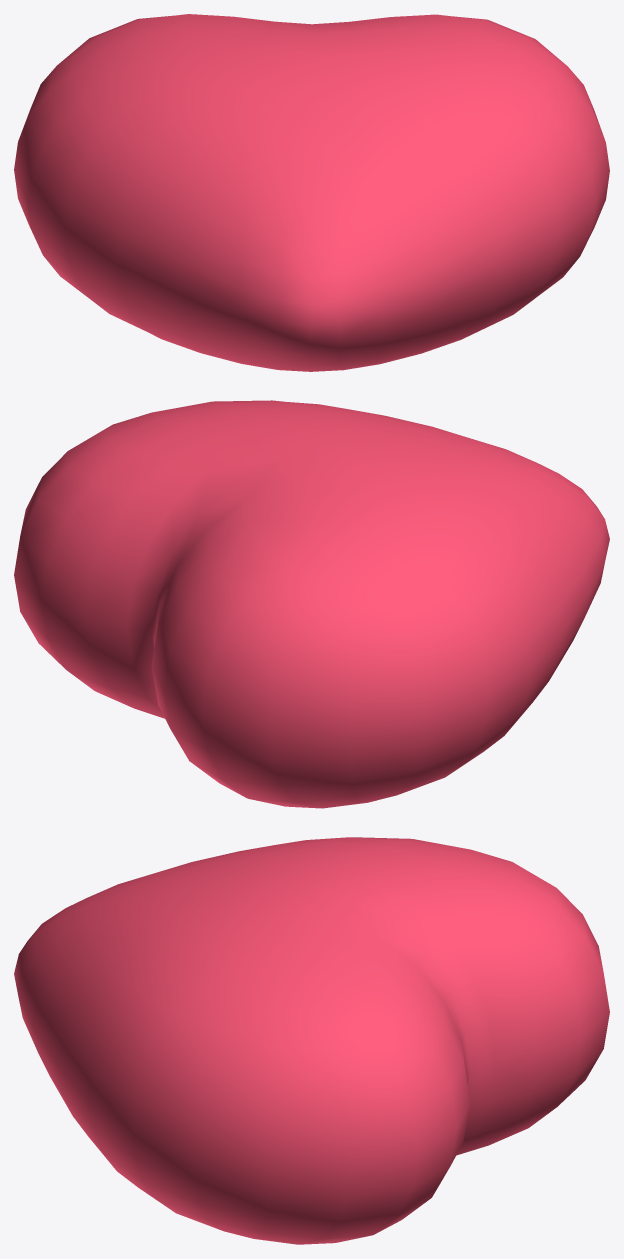
Rendered from ToyObject_047.fbx.
The picture shows the model from 3 angles, top to bottom: view 1: azimuth 30°, elevation 25°; view 2: azimuth 150°, elevation 25°; view 3: azimuth 270°, elevation 25°; orthographic projection. The views are drawn at different scales.
Parts seen in each view (by area): view 1: 1.031; view 2: 1.031; view 3: 1.031.
Boxes of the visible parts, x1=… form: 1.031: x1=14, y1=14, x2=609, y2=371; 1.031: x1=14, y1=400, x2=609, y2=808; 1.031: x1=14, y1=837, x2=609, y2=1244.
Bounding box in the file's own units: 0.1628 × 0.0886 × 0.1639.
